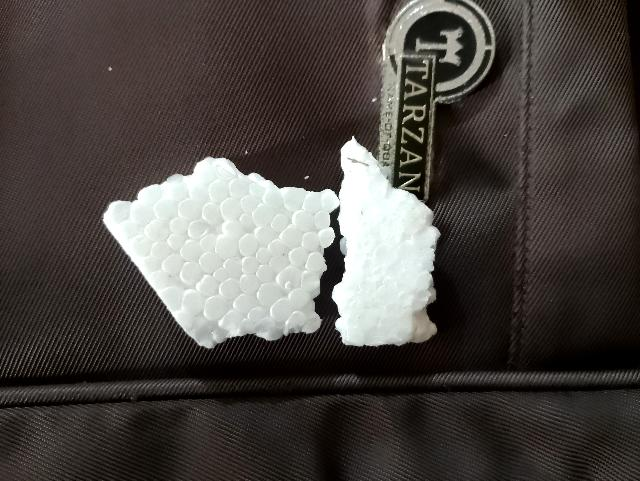cocksheet: (107, 164, 321, 332), (341, 145, 445, 351)
